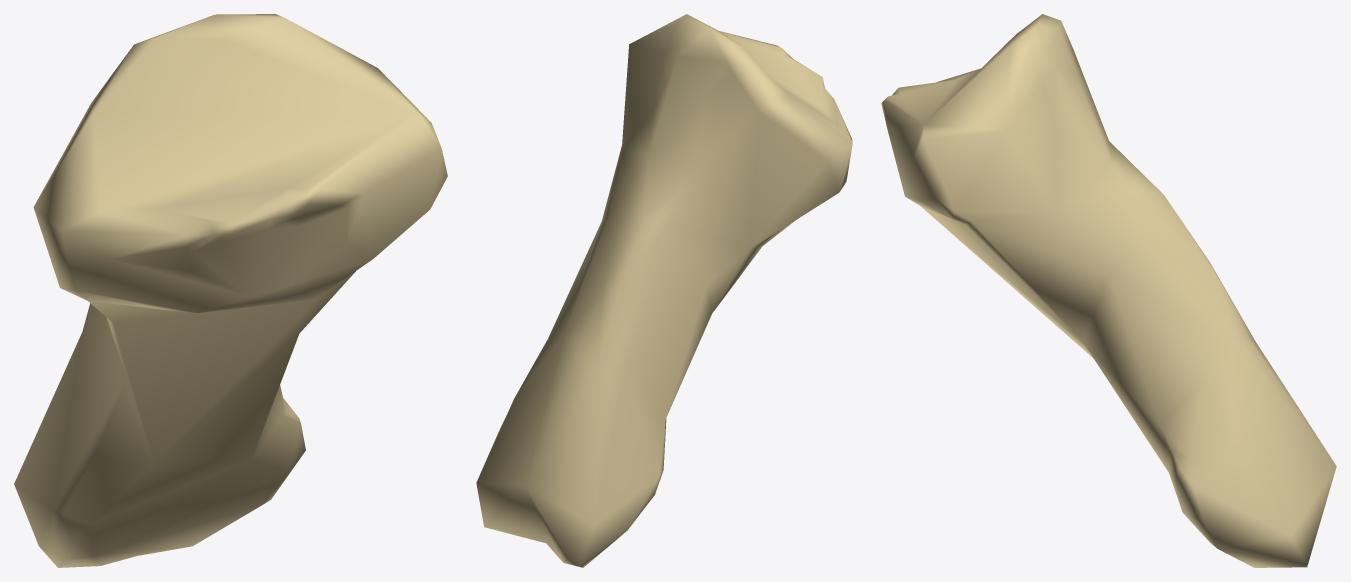
3 renders of one model, left to right at view 1: azimuth 30°, elevation 25°; view 2: azimuth 150°, elevation 25°; view 3: azimuth 270°, elevation 25°, orthographic. The views are drawn at different scales.
Visible parts, largest first — view 1: 左侧第二指远节指骨; view 2: 左侧第二指远节指骨; view 3: 左侧第二指远节指骨.
Part boxes in pixels (box(x1,y1,x2,y2)): 左侧第二指远节指骨: box(14, 14, 447, 567); 左侧第二指远节指骨: box(476, 14, 852, 567); 左侧第二指远节指骨: box(881, 14, 1336, 567).
Size of the model in its own units: 0.0154 by 0.026 by 0.0211.
